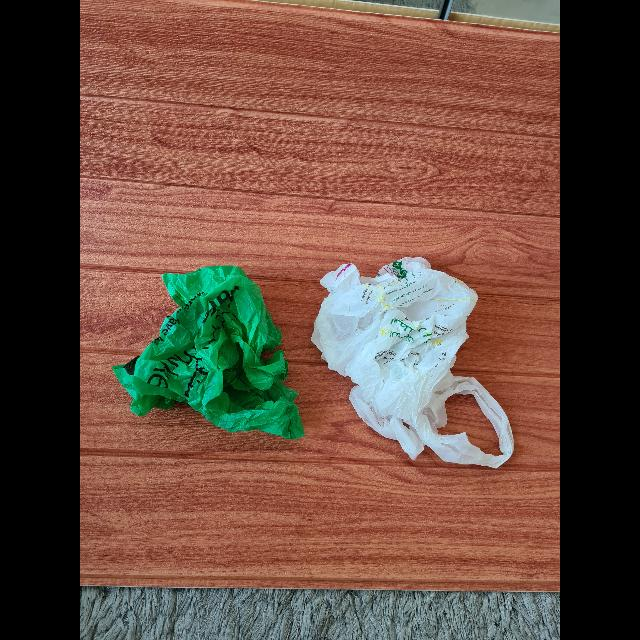plastic_bag: (316, 256, 526, 466), (117, 259, 301, 441)
